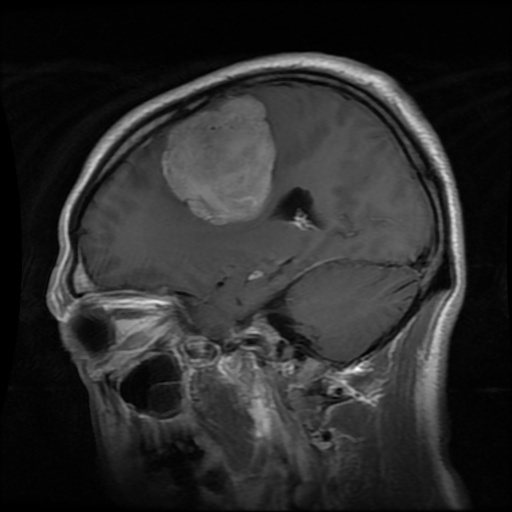meningioma: (162, 93, 276, 223)
